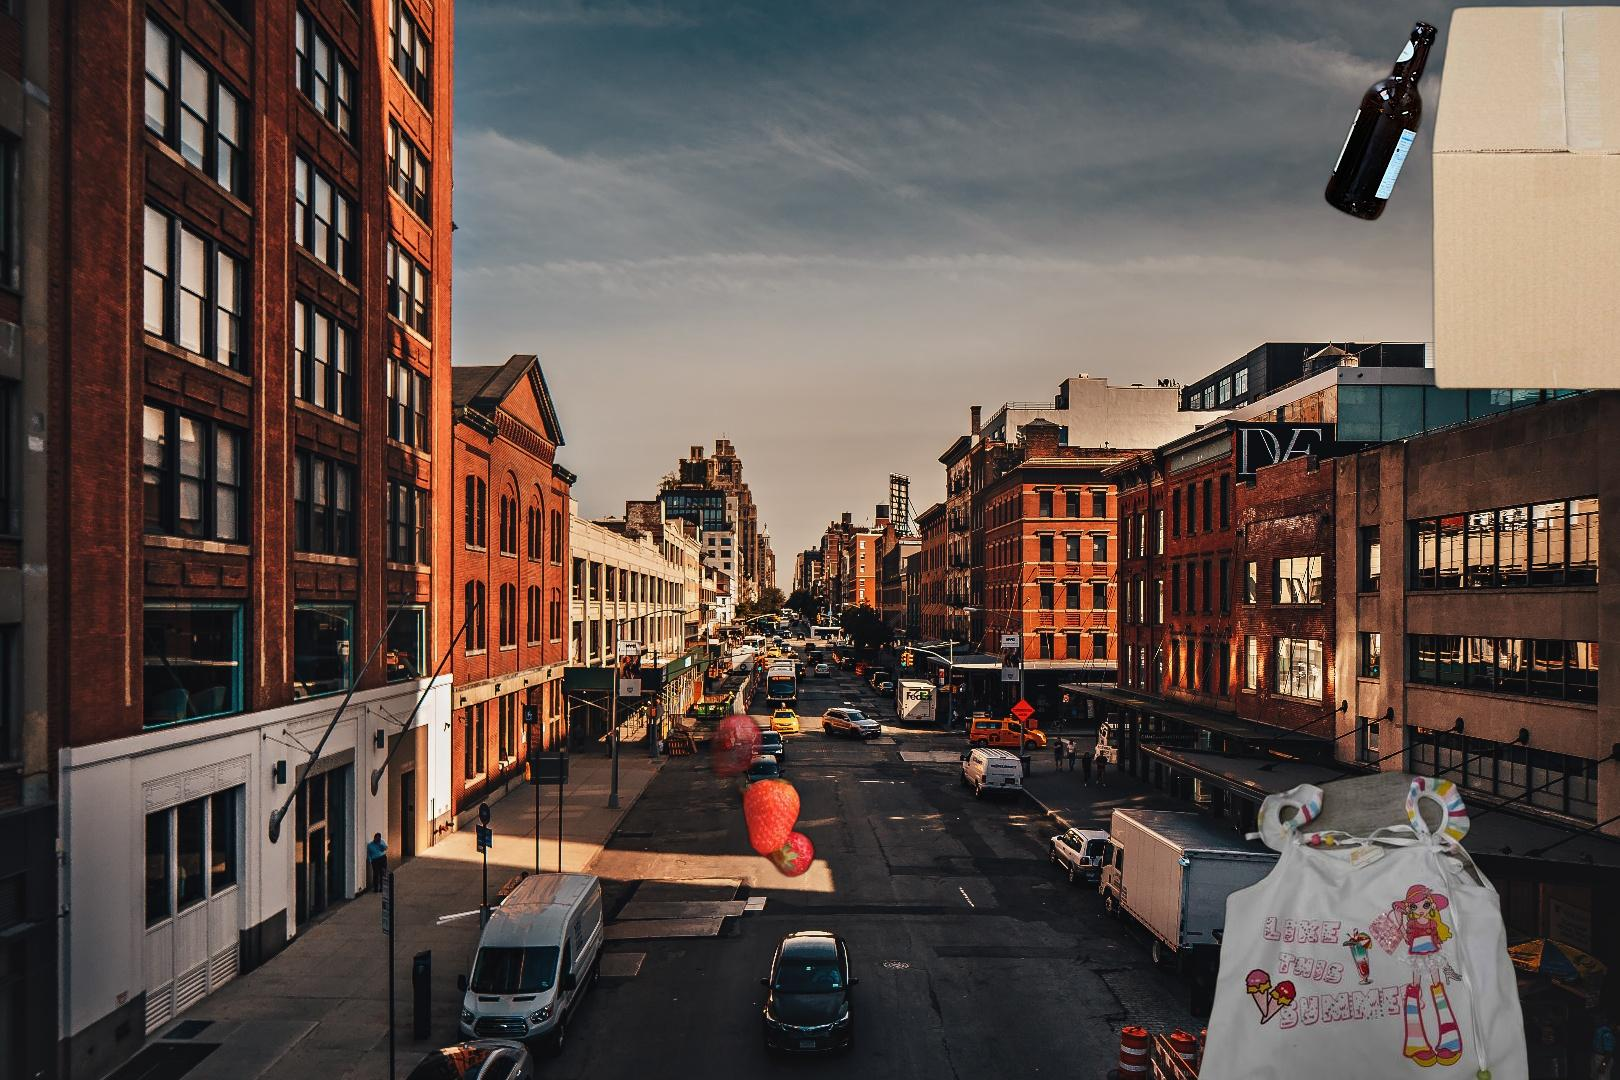biological: (641, 705, 894, 899)
clothes: (1191, 759, 1533, 1080)
glass: (1321, 14, 1443, 227)
trashbox-cardboard: (1427, 2, 1620, 394)
